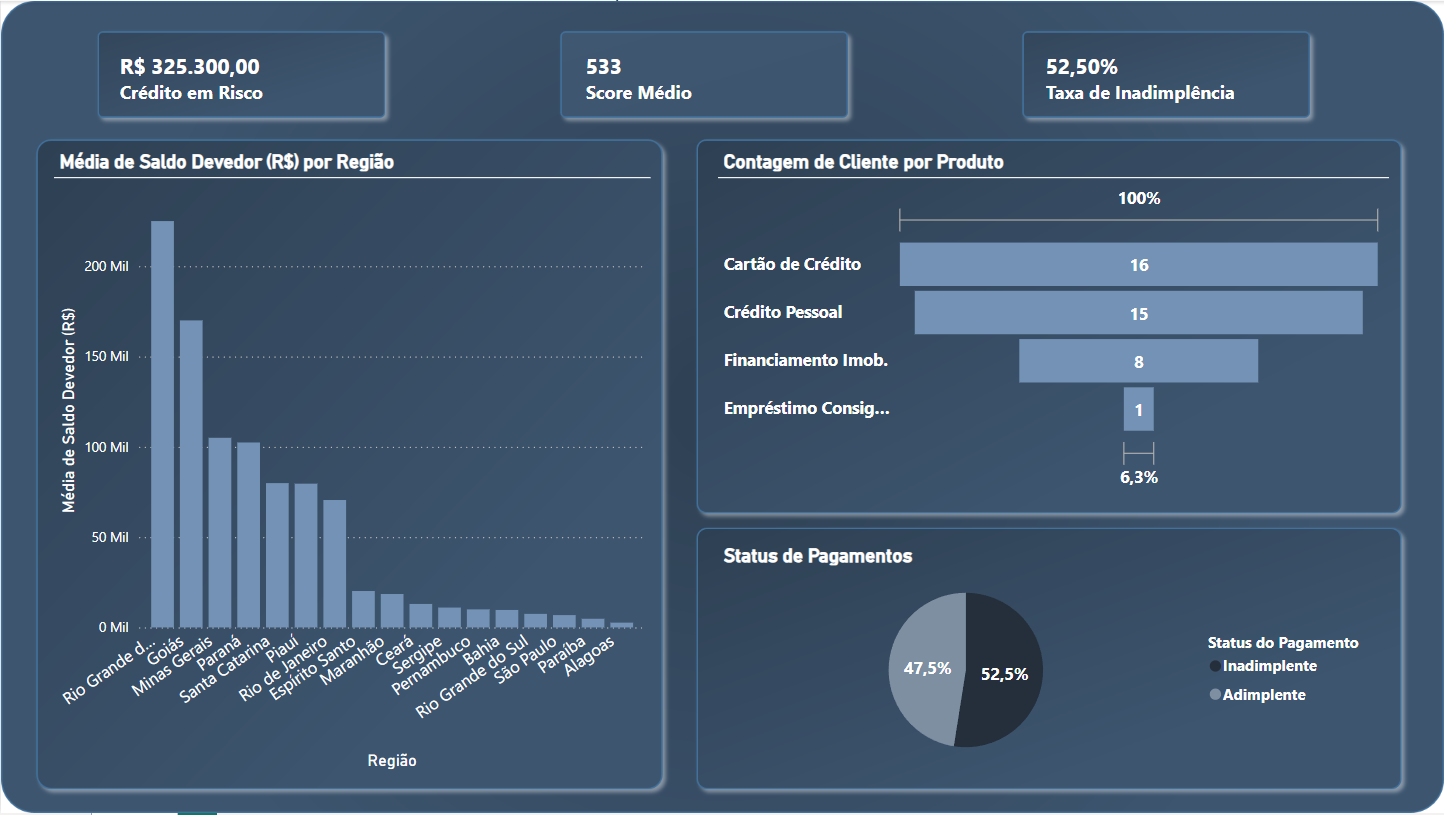

The page's visual inventory and layout, read from the dashboard file:
{"tool":"powerbi","page":{"name":"Página 1","canvas":[1280,720],"ordinal":0},"visuals":[{"type":"multiRowCard","fields":{"Values":["Planilha1.Crédito em Risco"]},"box":[100.6,40,226.5,66.4],"z":0},{"type":"multiRowCard","fields":{"Values":["Planilha1.Score Médio"]},"box":[513.3,40,224.4,66.7],"z":1000},{"type":"multiRowCard","fields":{"Values":["Planilha1.Taxa de Inadimplência"]},"box":[921.1,40,240,66.7],"z":2000},{"type":"columnChart","fields":{"Category":["Planilha1.Região"],"Y":["Avg(Planilha1.Saldo Devedor (R$))"]},"box":[46.7,132.2,528.9,553.3],"z":3000},{"type":"pieChart","title":"Status de Pagamentos","fields":{"Category":["Planilha1.Status do Pagamento"],"Y":["CountNonNull(Planilha1.Cliente ID)"]},"box":[635.6,481.1,595.6,204.4],"z":4000},{"type":"funnel","title":"Contagem de Cliente por Produto","fields":{"Y":["CountNonNull(Planilha1.Cliente ID)"],"Category":["Planilha1.Produto"]},"box":[635.8,132.1,595,305],"z":5000}]}

Visuals, with their boxes in screenshot pixels (x1, y1, x2, y2), scaled from the page's 1280x720 canvas onto the 1444x815 screenshot:
multiRowCard - Planilha1.Crédito em Risco: 113,45,369,120
multiRowCard - Planilha1.Score Médio: 579,45,832,121
multiRowCard - Planilha1.Taxa de Inadimplência: 1039,45,1310,121
columnChart - Planilha1.Região x Avg(Planilha1.Saldo Devedor (R$)): 53,150,649,776
"Status de Pagamentos" pieChart: 717,545,1389,776
"Contagem de Cliente por Produto" funnel: 717,150,1388,495
